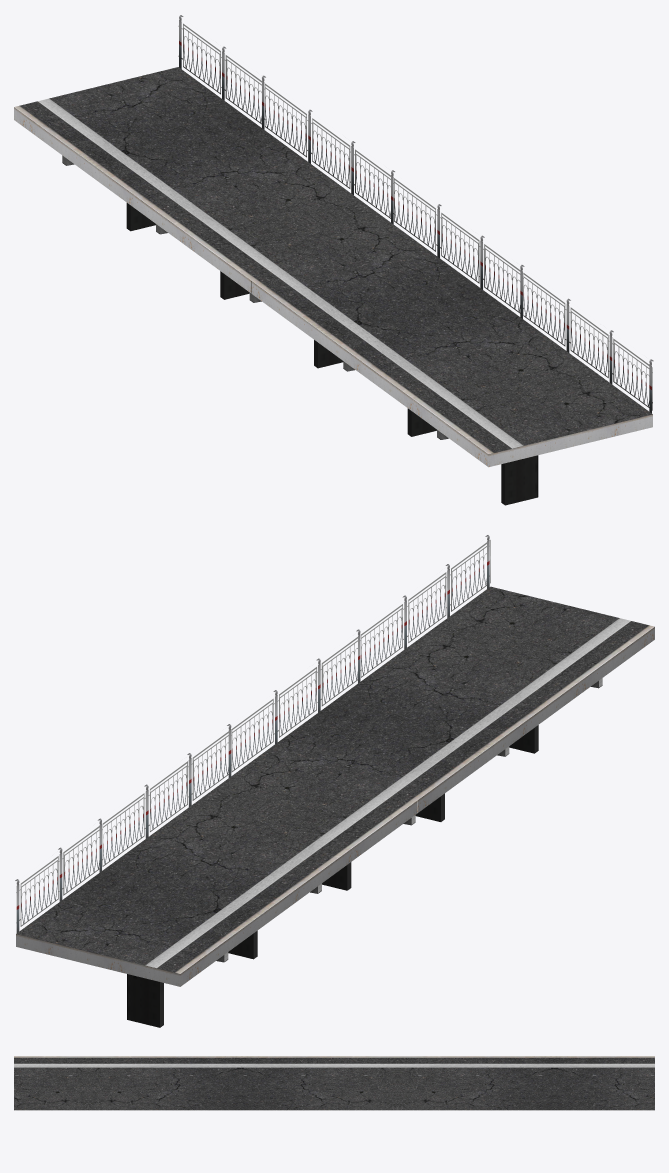
File: platform_uz_R20_zab.gltf
The picture shows the model from 3 angles, top to bottom: view 1: azimuth 30°, elevation 25°; view 2: azimuth 150°, elevation 25°; view 3: azimuth 270°, elevation 25°; orthographic projection. The views are drawn at different scales.
Bounding box in the file's own units: 4.05 × 3.62 × 20.
1 material, 1 textured.
